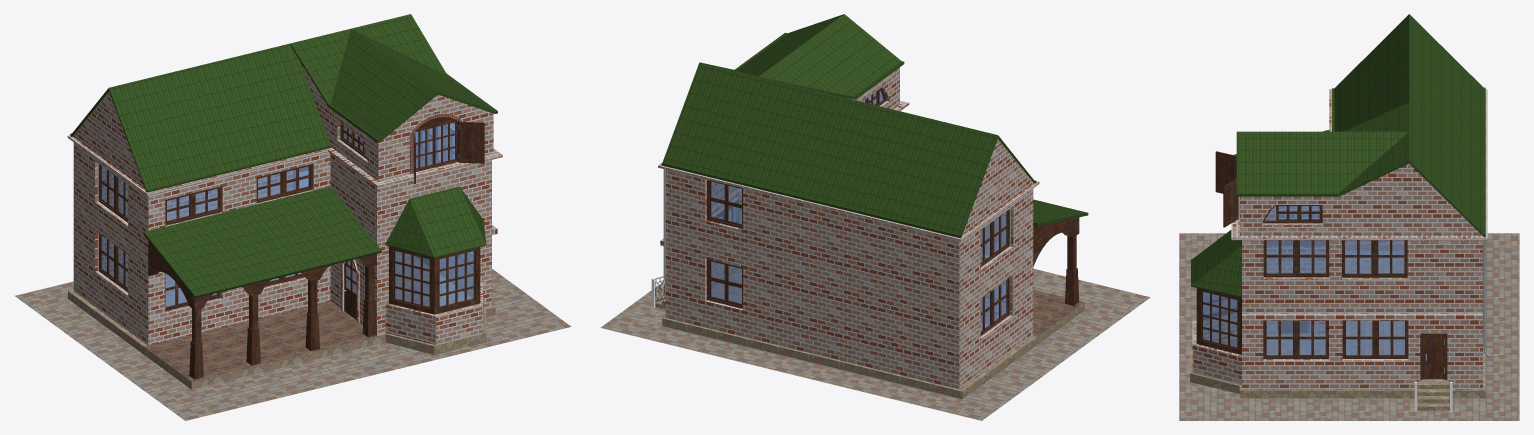
File: house3-draco.glb
3 views of the same model, side by side, from view 1: azimuth 30°, elevation 25°; view 2: azimuth 150°, elevation 25°; view 3: azimuth 270°, elevation 25° (orthographic).
Parts seen in each view (by area): view 1: Mansandra_ext_2, Pavement_6, Stavnya_R_4; view 2: Mansandra_ext_2, Pavement_6; view 3: Mansandra_ext_2, Pavement_6, Stavnya_L_5, Stavnya_R_4.
Part boxes in pixels (x1,y1,x2,y2): Mansandra_ext_2: (67,14,502,389); Pavement_6: (15,251,571,420); Stavnya_R_4: (459,121,484,163); Mansandra_ext_2: (651,14,1088,399); Pavement_6: (600,268,1150,420); Mansandra_ext_2: (1190,14,1490,411); Pavement_6: (1179,233,1519,420); Stavnya_L_5: (1215,151,1236,193); Stavnya_R_4: (1223,179,1238,227).
Bounding box in the file's own units: 16.93 × 10.03 × 12.98.
Materials: 11 (8 with a texture image).
